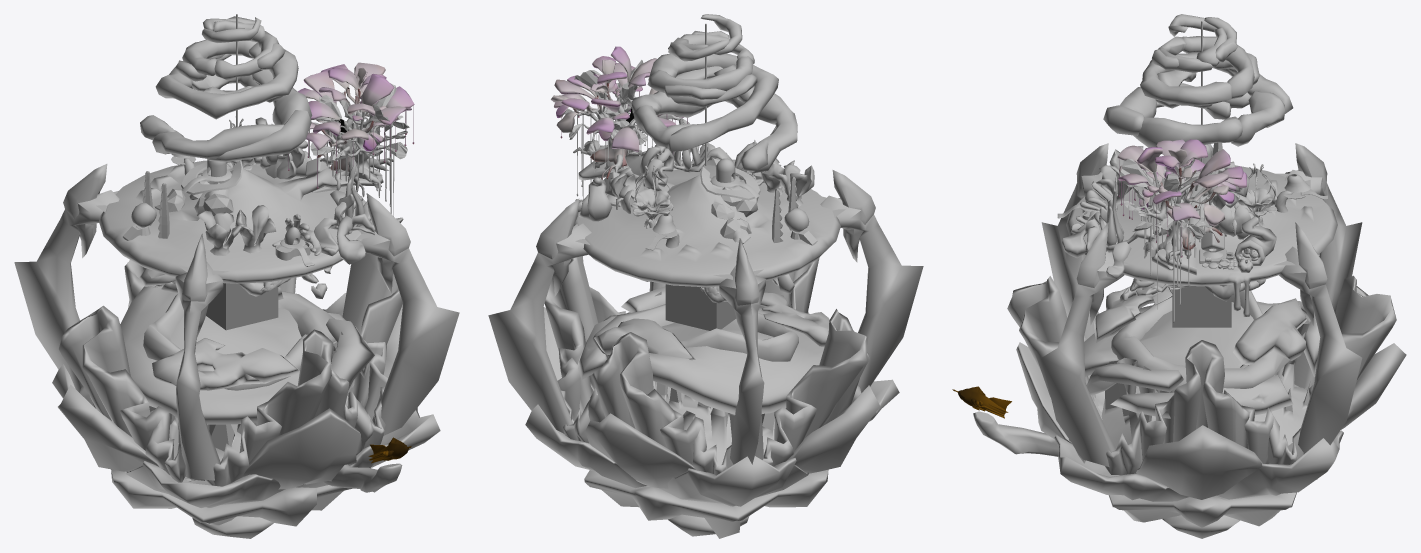
The model's file is testcube.gltf.
3 views of the same model, side by side, from view 1: azimuth 30°, elevation 25°; view 2: azimuth 150°, elevation 25°; view 3: azimuth 270°, elevation 25° (orthographic). The views are drawn at different scales.
Parts seen in each view (by area): view 1: polySurface582, pCube92, mid_base, Assembly-219, Assembly-143, Assembly-139, Assembly-141, polySurface593, pasted__leaf_015, polySurface584, Assembly-108, polySurface589 (+20 smaller); view 2: polySurface582, pCube92, Assembly-219, mid_base, polySurface587, Assembly-141, polySurface584, Assembly-139, pasted__leaf_015, polySurface588, polySurface585, polySurface589 (+19 smaller); view 3: polySurface582, mid_base, Assembly-219, pCube92, Assembly-143, polySurface587, Assembly-137, pasted__leaf_015, Assembly-139, polySurface584, Assembly-108, Assembly-103 (+19 smaller).
Part boxes in pixels (box(x1,y1,x2,y2)): polySurface582: box(59, 253, 402, 486); pCube92: box(99, 160, 383, 283); mid_base: box(120, 284, 374, 424); Assembly-219: box(140, 16, 312, 161); Assembly-143: box(358, 193, 459, 435); Assembly-139: box(14, 164, 119, 392); Assembly-141: box(175, 233, 223, 480); polySurface593: box(243, 408, 362, 489); pasted__leaf_015: box(297, 62, 414, 151); polySurface584: box(111, 469, 352, 526); Assembly-108: box(143, 291, 335, 390); polySurface589: box(58, 384, 195, 481); polySurface582: box(544, 256, 869, 475); pCube92: box(574, 161, 840, 287); Assembly-219: box(631, 14, 797, 173); mid_base: box(577, 286, 829, 414); polySurface587: box(488, 198, 591, 433); Assembly-141: box(820, 170, 923, 392); polySurface584: box(584, 469, 828, 538); Assembly-139: box(719, 238, 765, 464); pasted__leaf_015: box(551, 46, 683, 151); polySurface588: box(660, 456, 808, 506); polySurface585: box(585, 413, 695, 488); polySurface589: box(788, 385, 880, 473); polySurface582: box(1007, 275, 1396, 475); mid_base: box(1084, 282, 1320, 418); Assembly-219: box(1103, 14, 1293, 147); pCube92: box(1066, 165, 1337, 316); Assembly-143: box(1041, 222, 1124, 466); polySurface587: box(1279, 222, 1362, 454); Assembly-137: box(1136, 425, 1262, 499); pasted__leaf_015: box(1117, 139, 1246, 226); Assembly-139: box(1282, 143, 1362, 388); polySurface584: box(1108, 479, 1317, 527); Assembly-108: box(1111, 289, 1289, 392); Assembly-103: box(1101, 357, 1310, 449).
Size of the model in its own units: 186 by 261 by 209.
Materials: 18 (5 with a texture image).
